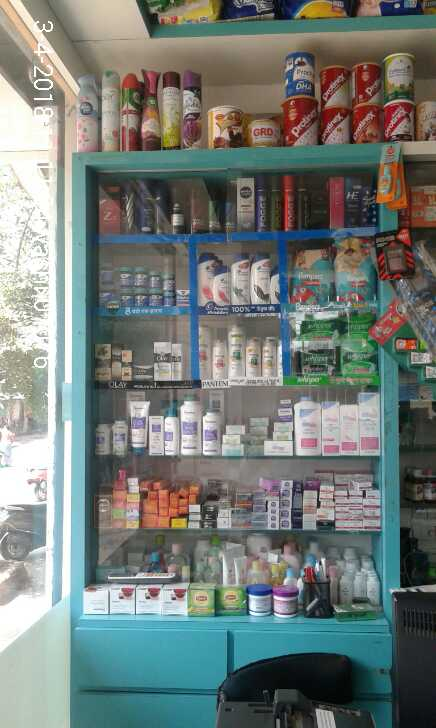vicks: (99, 262, 191, 305)
